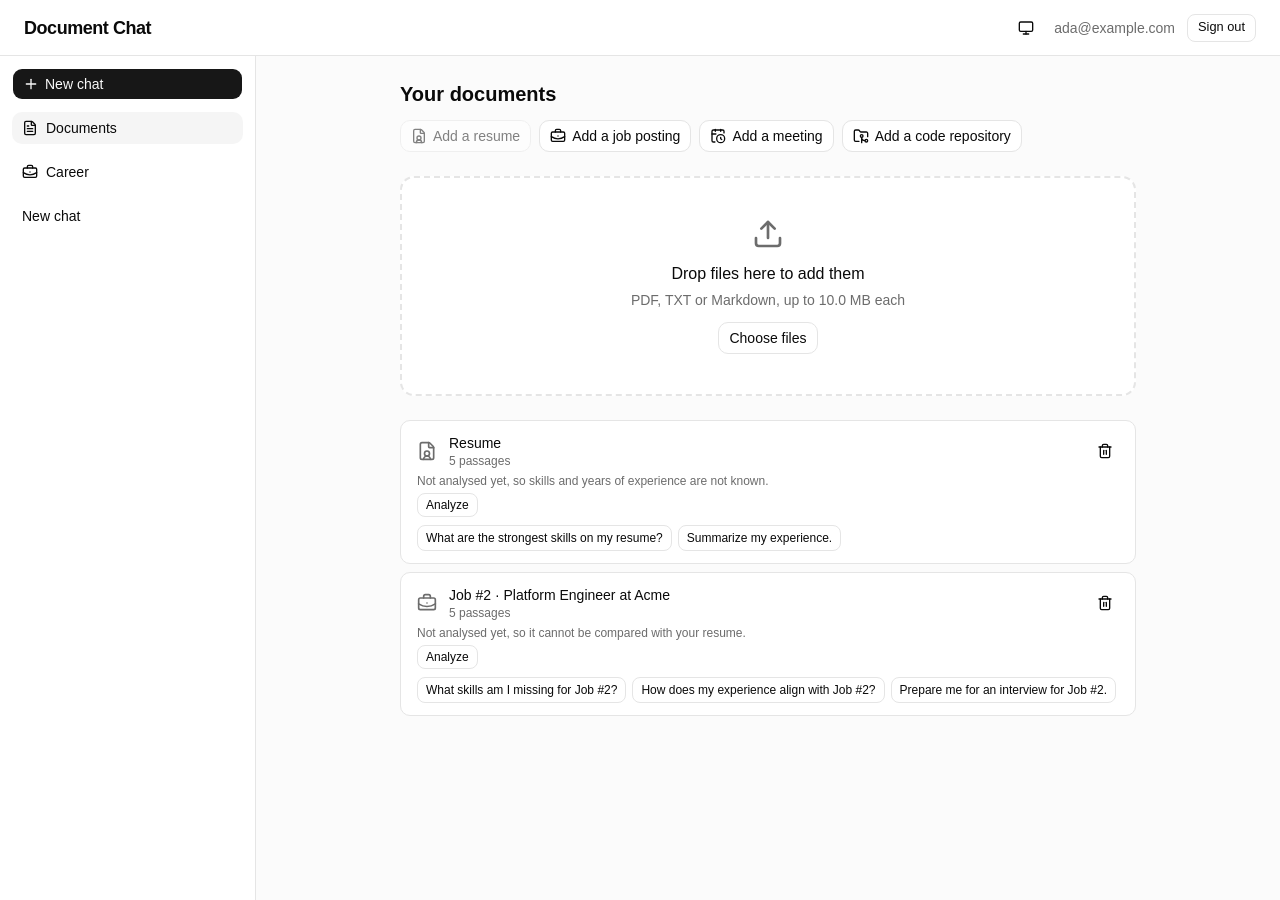
Test: suggested questions about a resume and job postings › are on the card of a posting, and start a chat limited to the resume and that posting
The image size is (1280, 900).
Click the button "What skills am I missing for Job #2?" at point(522, 690), box [417, 677, 626, 703]
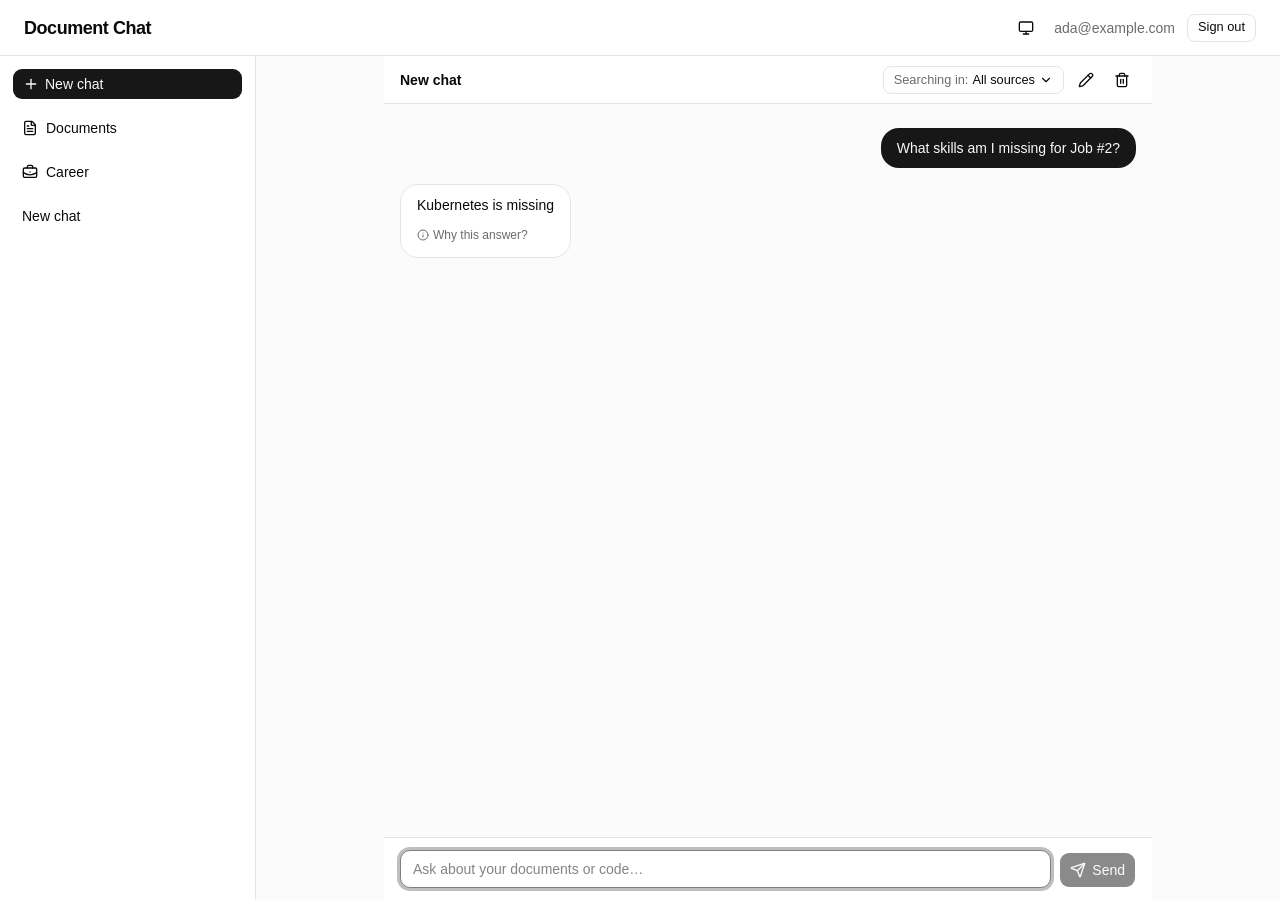
Expected: the text "Kubernetes is missing" is shown, [417, 195, 554, 215]
